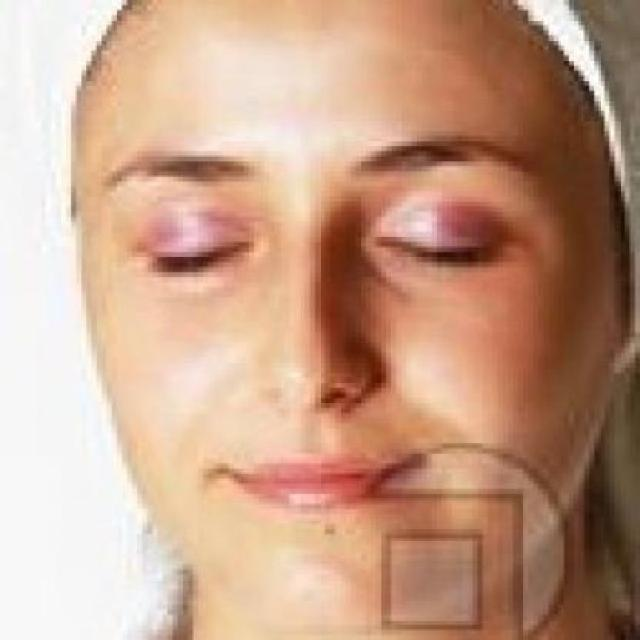drowsy: (374, 207, 506, 282), (145, 222, 253, 286)
